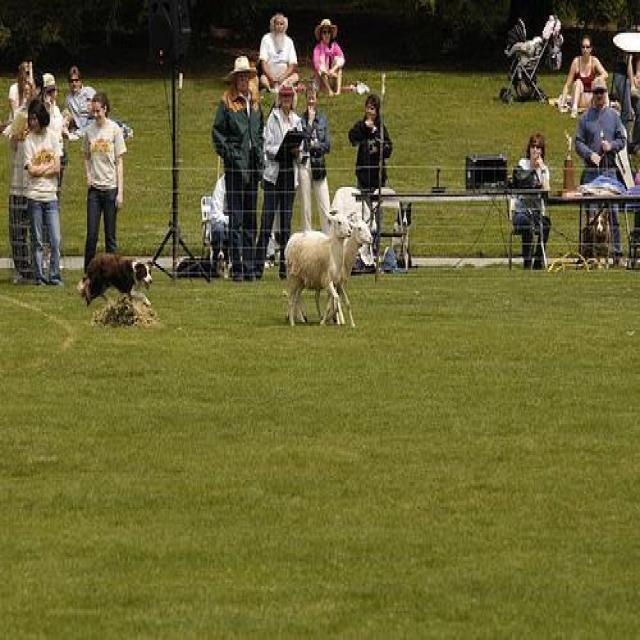Sheep: (287, 210, 353, 330)
